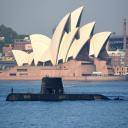submarine: (6, 64, 125, 102)
